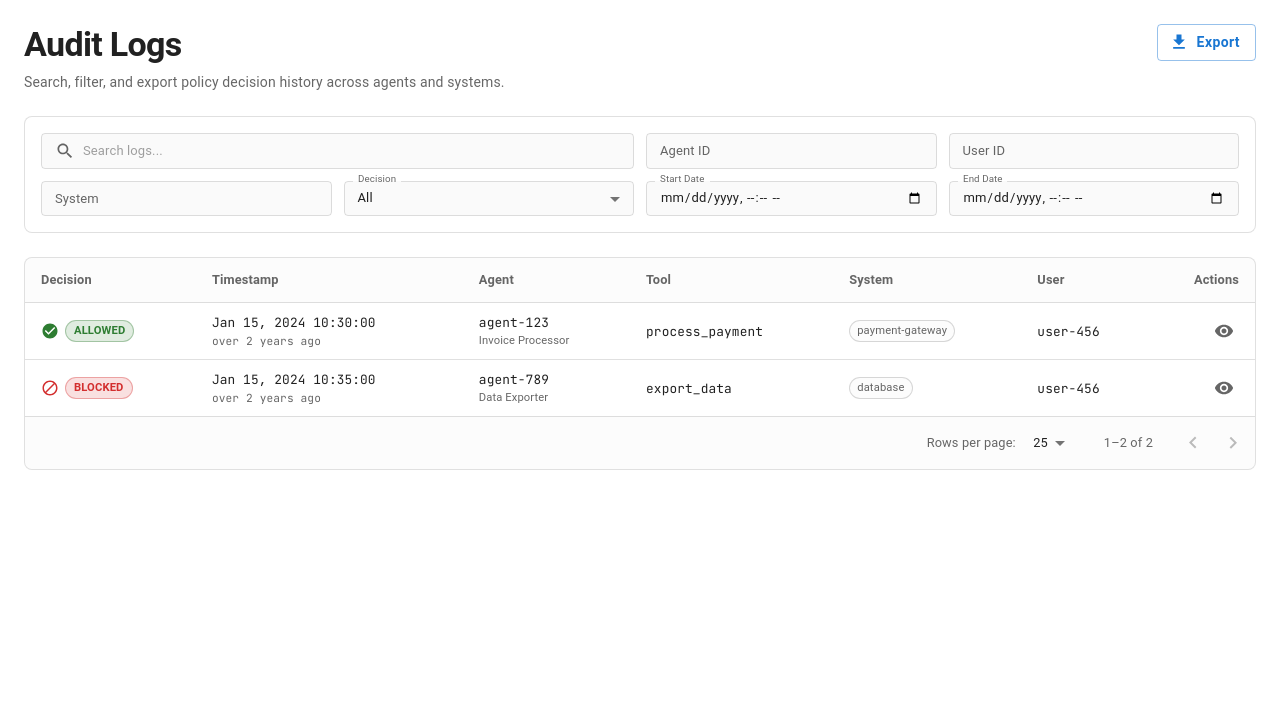
Test: AuditLogs › opens detail modal when view button is clicked
The width and height of the screenshot is (1280, 720).
Expected: the text "Invoice Processor" is shown, [479, 334, 569, 347]
Click the button named "view details" in the row of "ALLOWED". click: (1224, 331)
box: [1209, 316, 1239, 346]
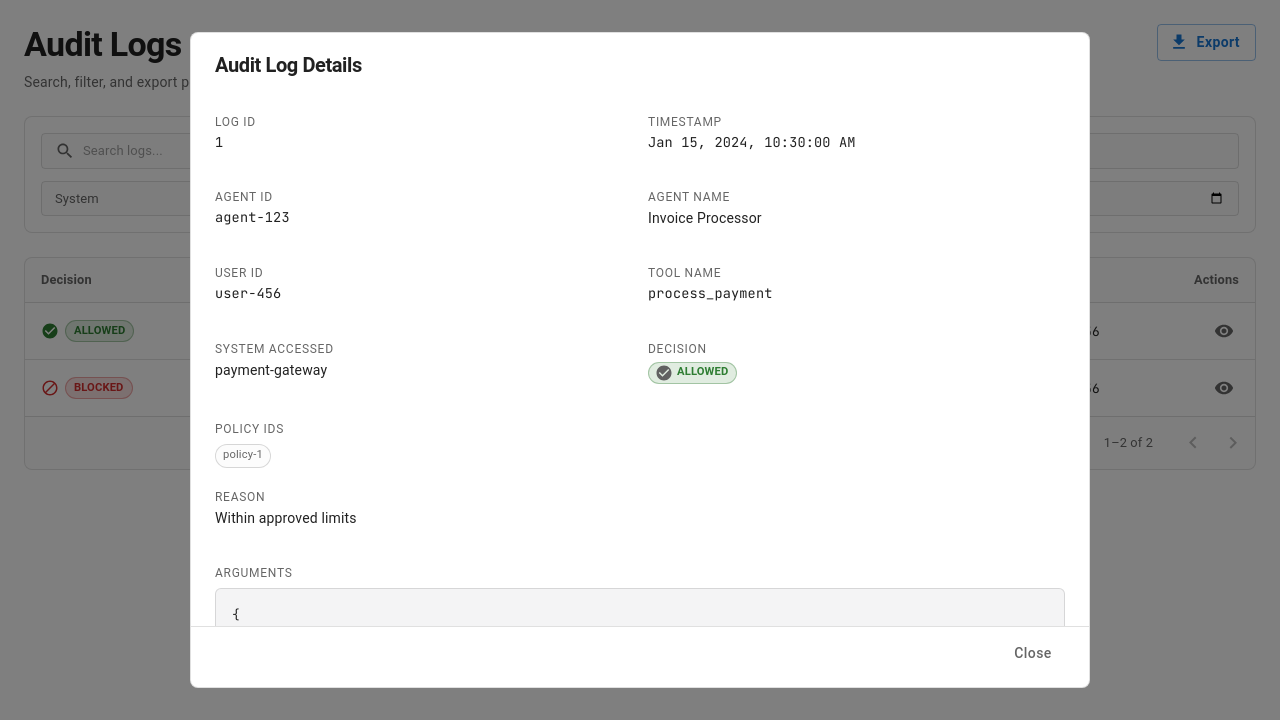
Now the heading "Audit Log Details" is shown, box [215, 53, 362, 77]
Now the text "Within approved limits" is shown, box [215, 510, 357, 526]
